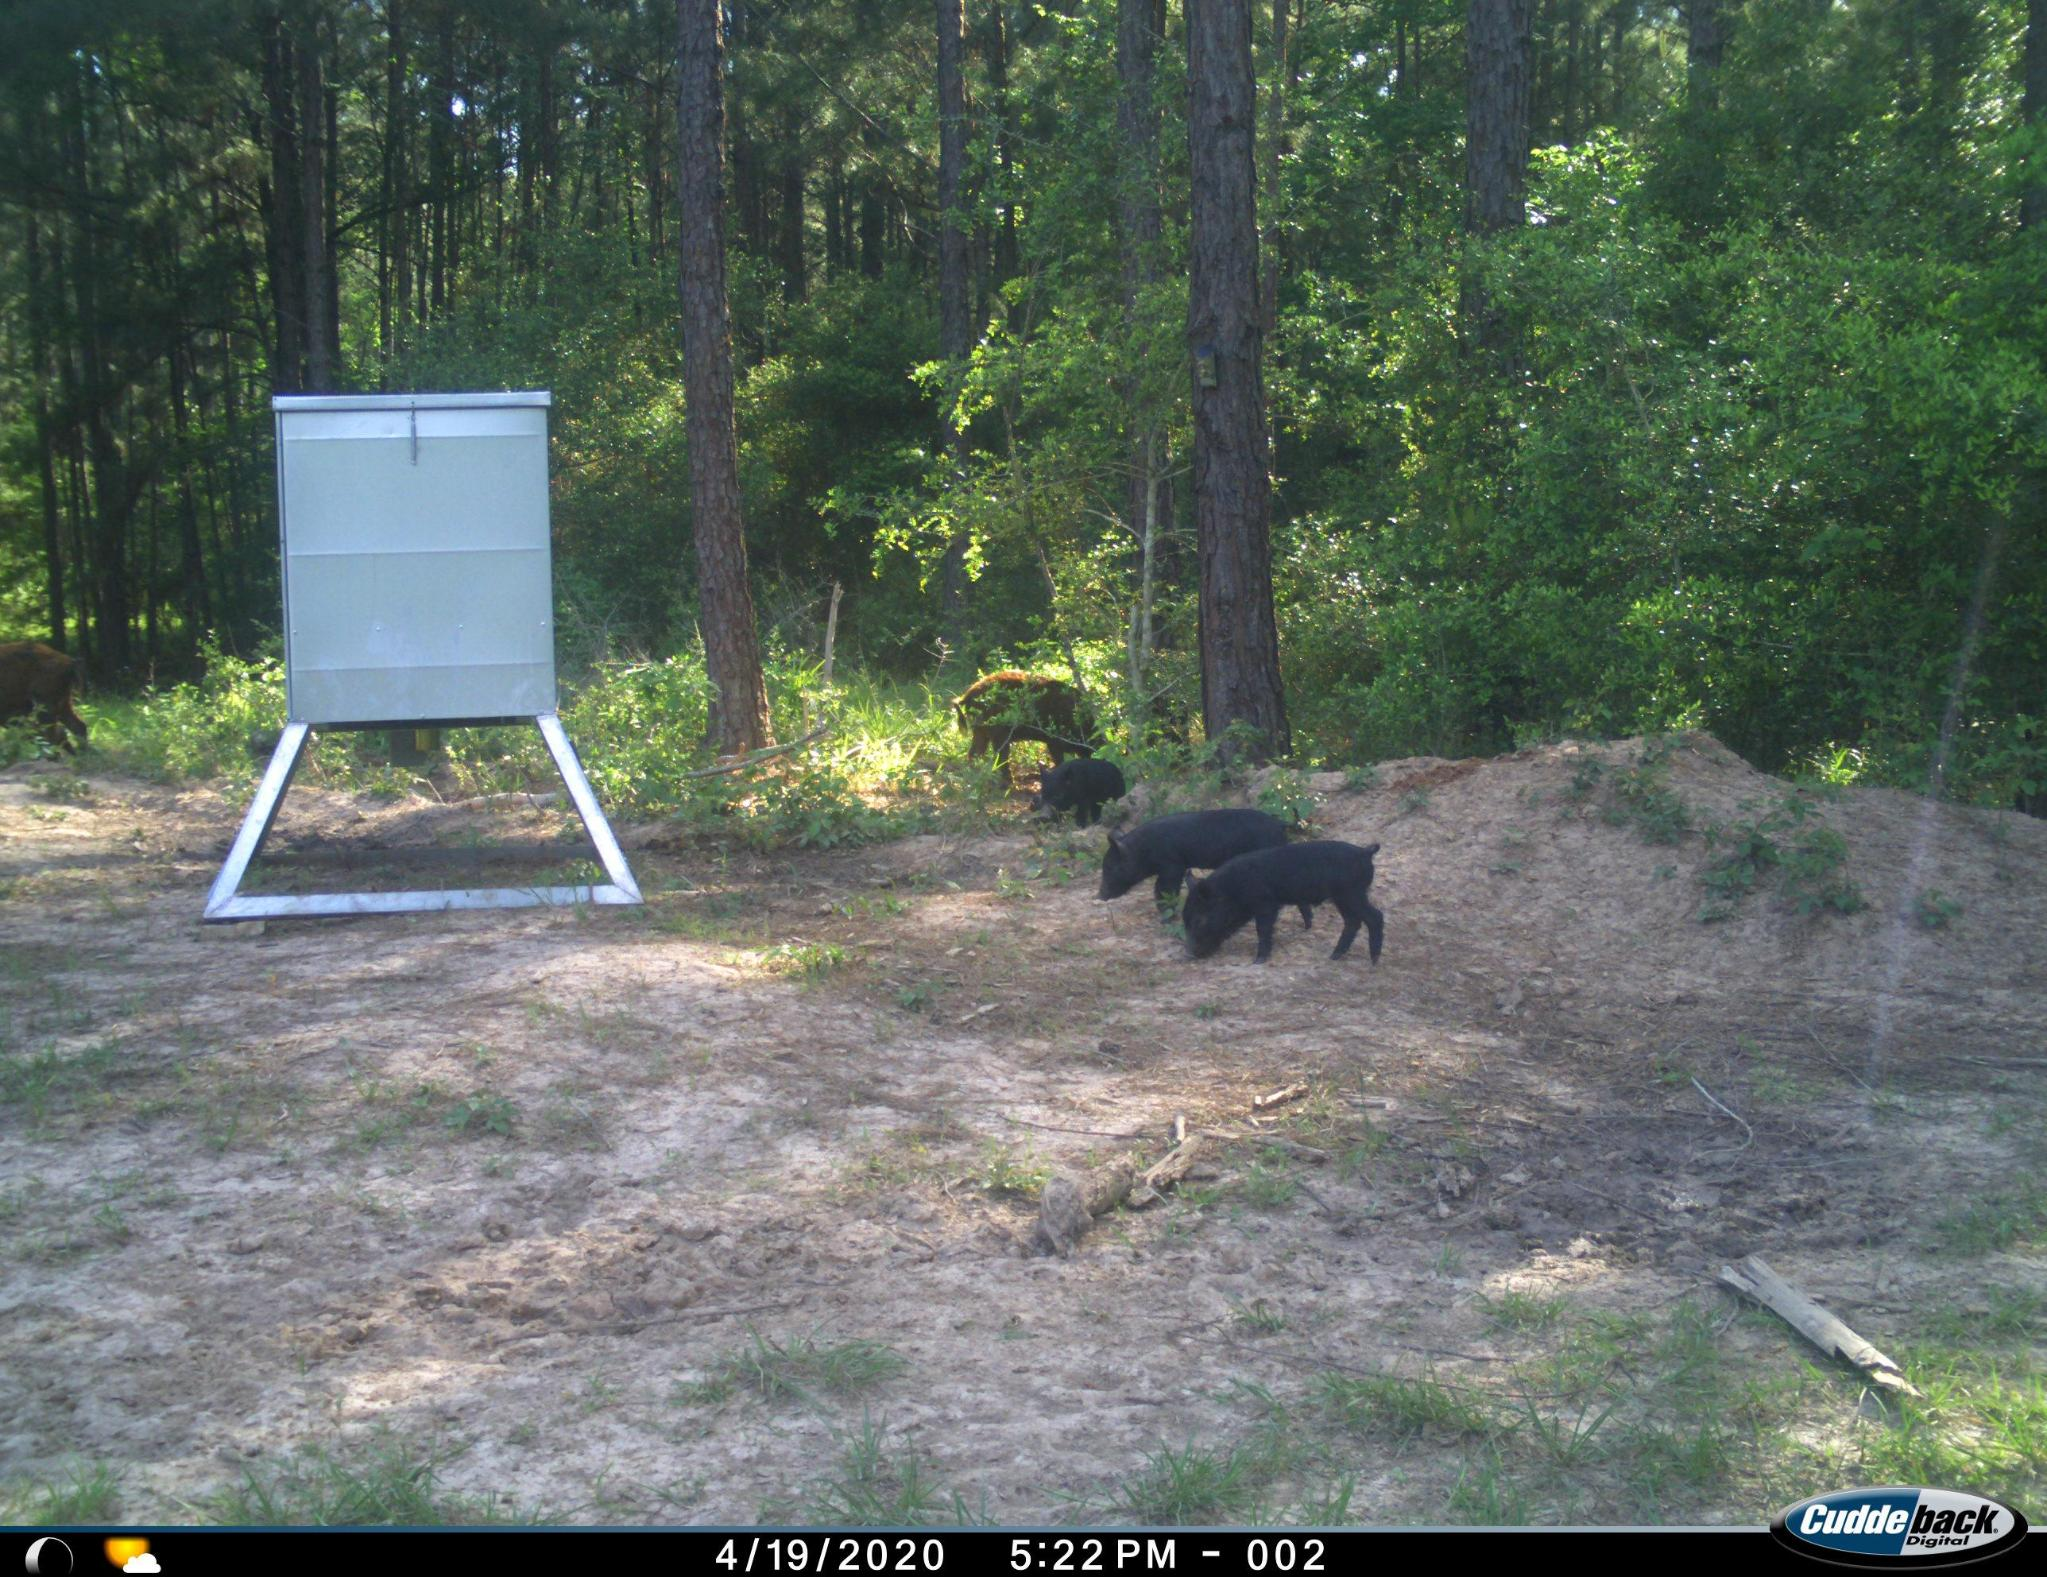Hog: (1169, 828, 1391, 974), (1091, 803, 1307, 914), (947, 663, 1105, 775), (0, 625, 96, 780), (1025, 745, 1126, 835)
